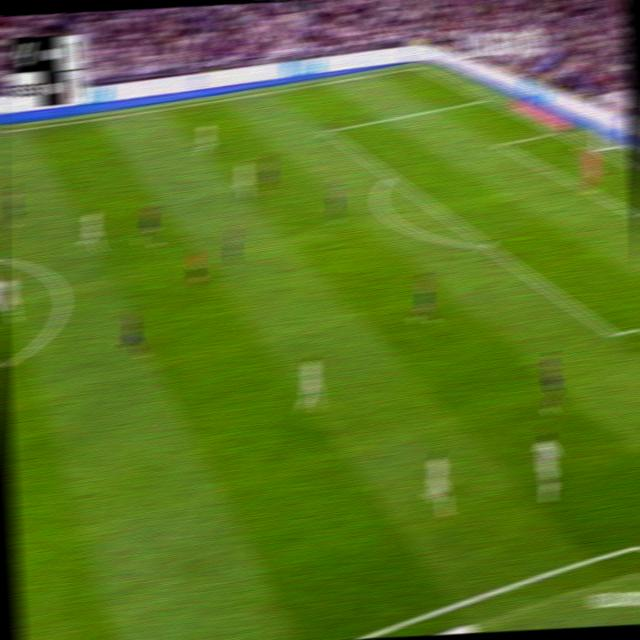bigarea_bottom_inner: (605, 322, 623, 348)
bigarea_top_inner: (321, 122, 336, 140)
bigarea_top_outter: (479, 91, 493, 105)
bottom_arc_area_intersection: (479, 234, 495, 256)
corner: (411, 61, 426, 72)
smallarea_top_inner: (494, 136, 509, 152)
top_arc_area_intersection: (384, 166, 399, 184)
